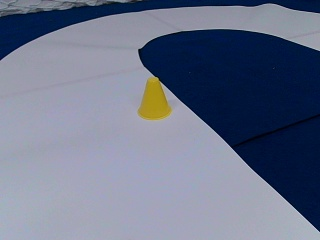cone: (137, 78, 170, 119)
